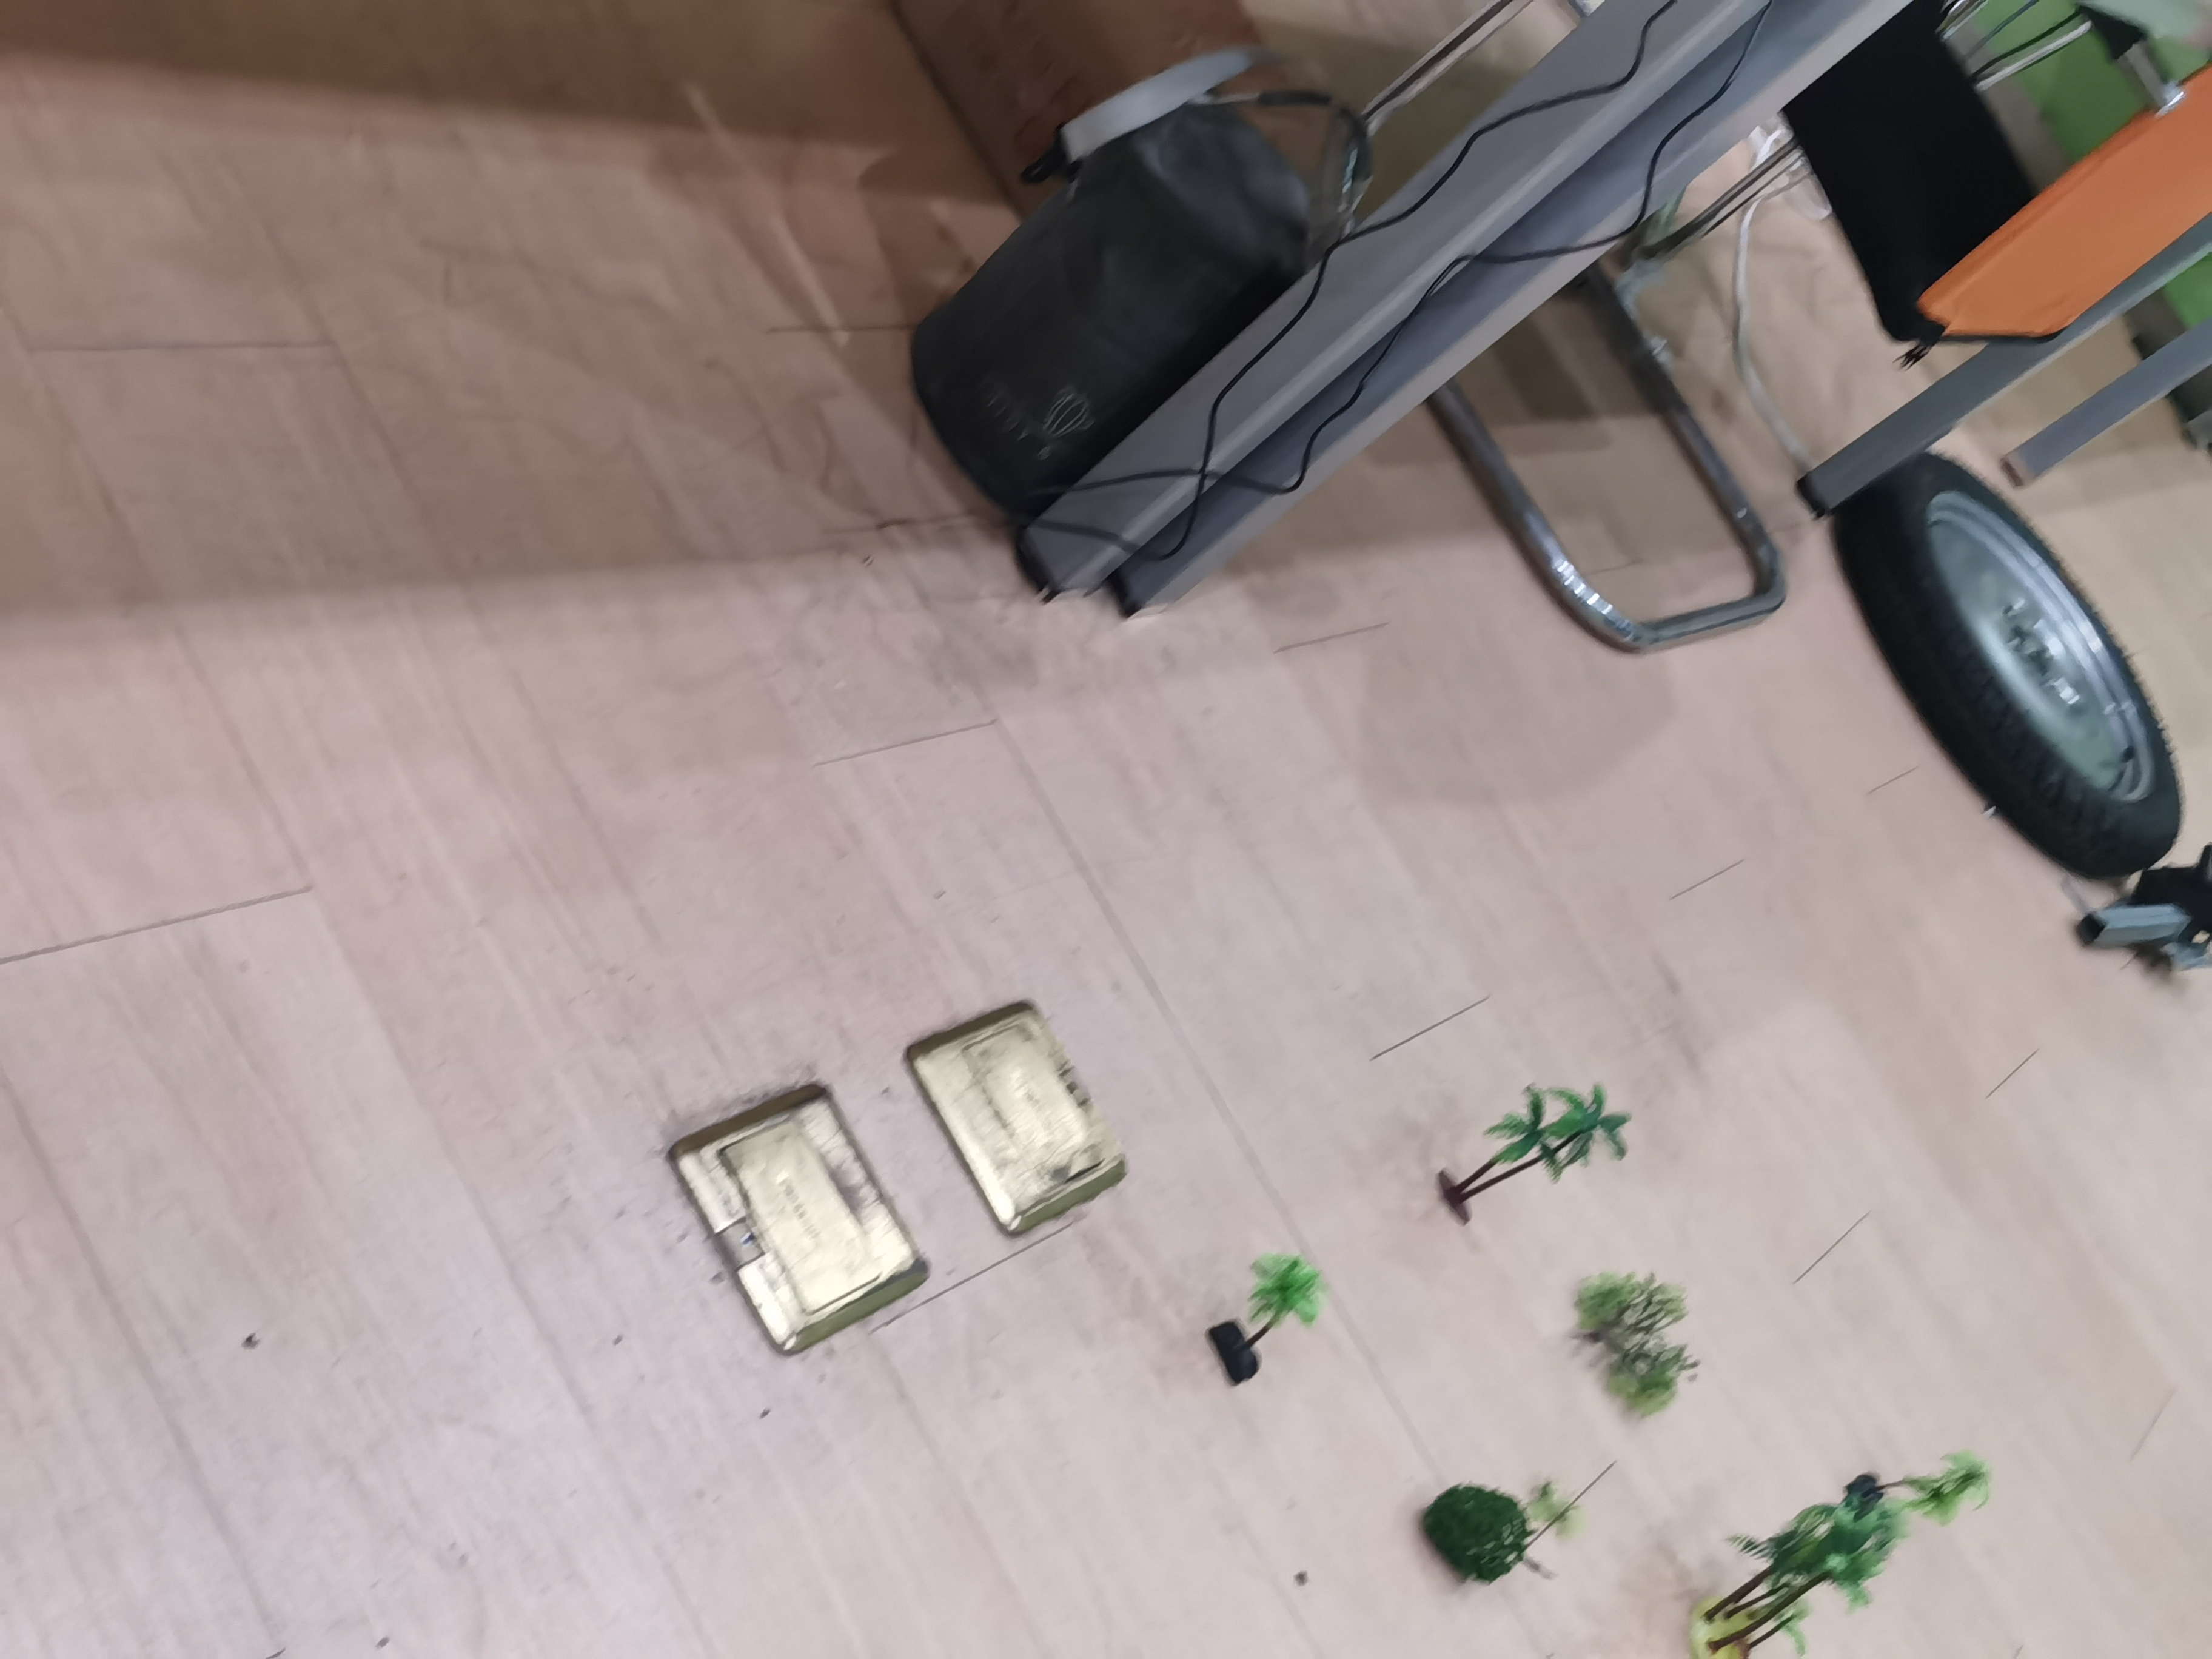corn: (1684, 1506, 1916, 1659), (1439, 1073, 1634, 1220), (1195, 1236, 1348, 1394), (1827, 1439, 1994, 1525)
